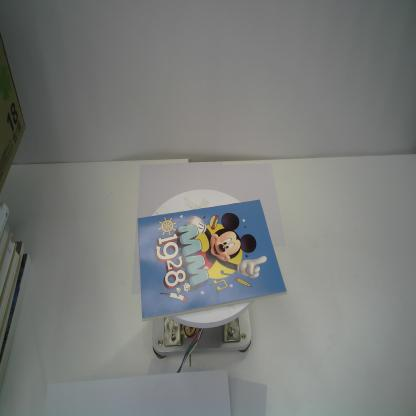Stationery: (135, 199, 288, 322)
